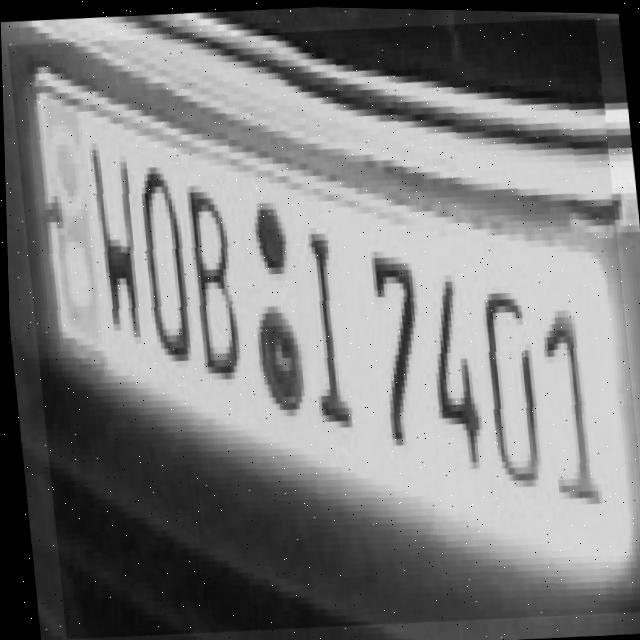LicensePlate: (7, 5, 640, 640)
